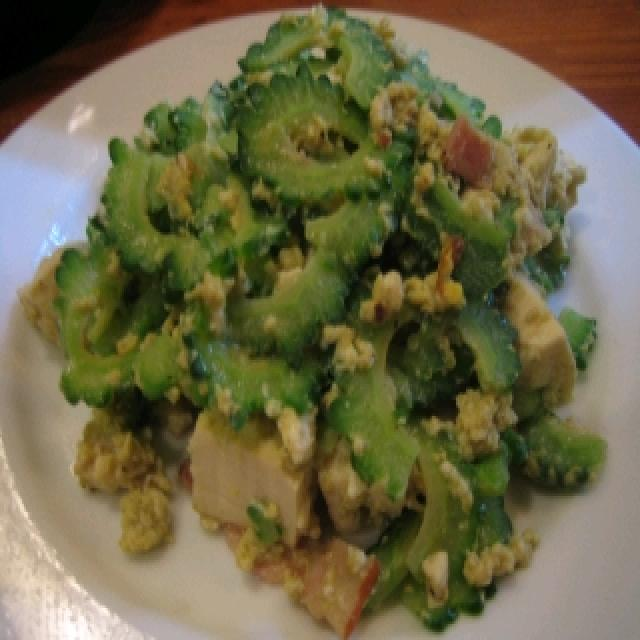熟制海鲜: (0, 2, 638, 640)
